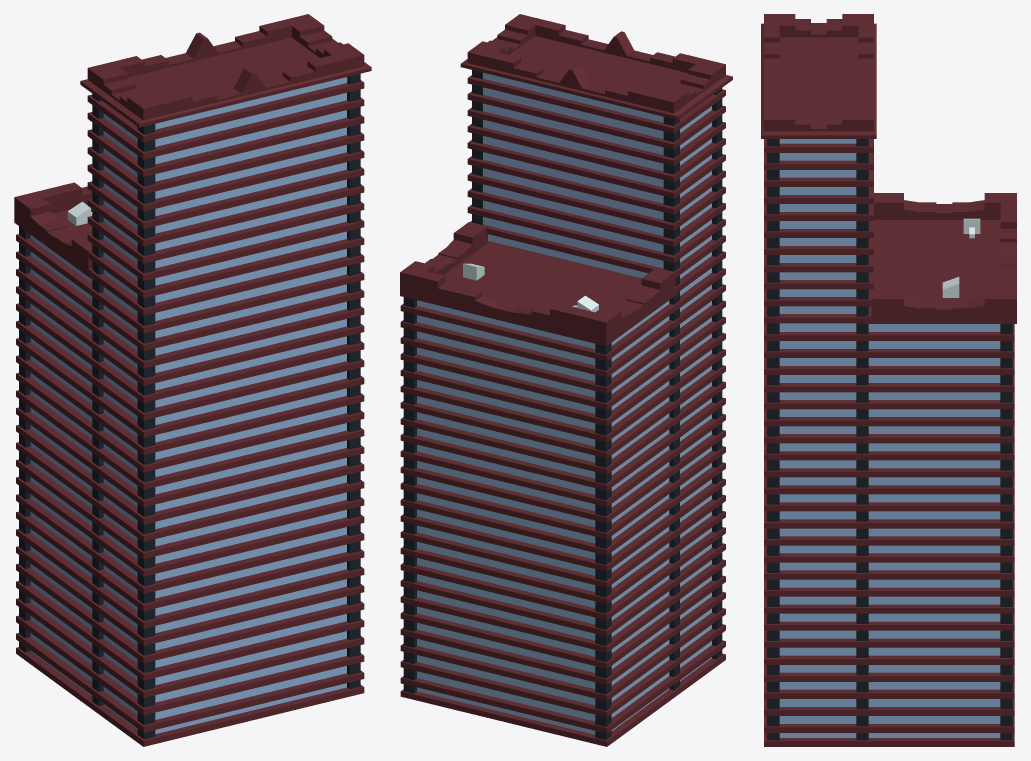
The model's file is Final-Tower.glb.
The picture shows the model from 3 angles, left to right: view 1: azimuth 30°, elevation 25°; view 2: azimuth 150°, elevation 25°; view 3: azimuth 270°, elevation 25°; orthographic projection. The views are drawn at different scales.
Visible parts, largest first — view 1: Cube, Cube.006, Cube.001, Cube.003, cornerstone1, cornerstone3, Cube.002, cornerstone1.001, cornerstone4; view 2: Cube, Cube.006, Cube.001, Cube.002, Cube.003, cornerstone4, cornerstone1.001, cornerstone2, cornerstone1, cornerstone3.001; view 3: Cube, Cube.006, Cube.002, Cube.003, Cube.001, cornerstone3, cornerstone3.001, cornerstone2.
Part boxes in pixels (x1,y1,x2,y2): Cube: (16, 234, 364, 746); Cube.006: (30, 77, 347, 733); Cube.001: (87, 80, 364, 315); Cube.003: (80, 14, 371, 127); cornerstone1: (137, 124, 155, 739); cornerstone3: (347, 73, 360, 689); Cube.002: (14, 182, 93, 278); cornerstone1.001: (92, 94, 103, 705); cornerstone4: (19, 226, 30, 652); Cube: (400, 268, 725, 746); Cube.006: (417, 72, 711, 734); Cube.001: (467, 75, 725, 291); Cube.002: (400, 222, 678, 346); Cube.003: (460, 14, 732, 119); cornerstone4: (595, 343, 611, 740); cornerstone1.001: (663, 117, 679, 690); cornerstone2: (403, 297, 416, 693); cornerstone1: (712, 88, 722, 659); cornerstone3.001: (472, 70, 482, 224); Cube: (764, 323, 1014, 746); Cube.006: (779, 139, 1000, 737); Cube.002: (865, 193, 1016, 323); Cube.003: (761, 14, 876, 138); Cube.001: (764, 139, 873, 323); cornerstone3: (767, 139, 779, 740); cornerstone3.001: (856, 139, 868, 740); cornerstone2: (1000, 324, 1012, 740).
Bounding box in the file's own units: 21.06 × 55.88 × 20.42.
